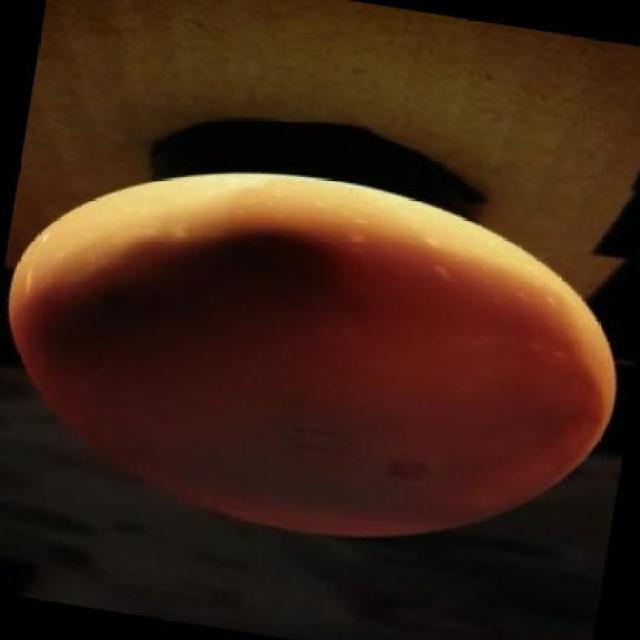Eggs: (11, 172, 616, 538)
